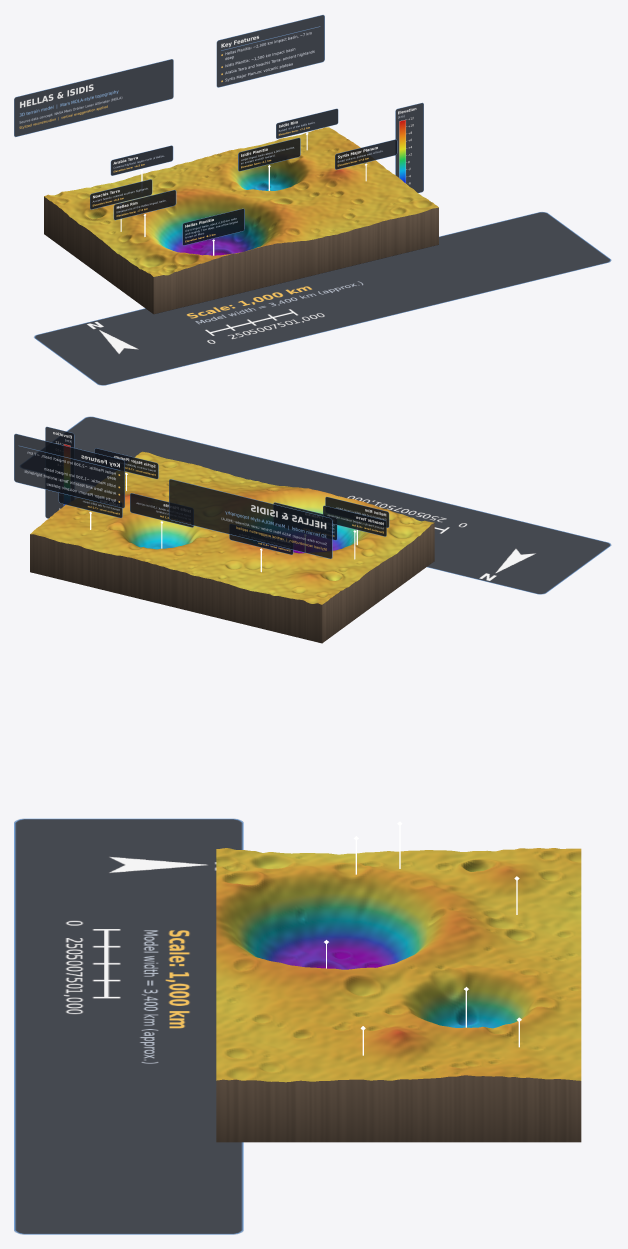
File: 03_Hellas_Isidis.glb
3 renders of one model, top to bottom at view 1: azimuth 30°, elevation 25°; view 2: azimuth 150°, elevation 25°; view 3: azimuth 270°, elevation 25°, orthographic. The views are drawn at different scales.
Visible parts, largest first — view 1: Info_ScaleAndCompass, Terrain_Surface, Terrain_Walls, Info_Title, Info_KeyFeatures, Info_ElevationLegend, Label_Hellas Planitia, Label_Isidis Planitia, Label_Arabia Terra, Label_Hellas Rim, Label_Noachis Terra, Label_Syrtis Major Planum (+1 smaller); view 2: Terrain_Surface, Info_ScaleAndCompass, Terrain_Walls, Info_Title, Info_KeyFeatures, Label_Isidis Planitia, Info_ElevationLegend, Label_Noachis Terra, Label_Hellas Planitia, Label_Syrtis Major Planum, Label_Isidis Rim, Label_Arabia Terra (+1 smaller); view 3: Info_ScaleAndCompass, Terrain_Surface, Terrain_Walls.
Part boxes in pixels (bbox=[...]): Info_ScaleAndCompass: bbox=[34, 212, 611, 385]; Terrain_Surface: bbox=[44, 127, 438, 276]; Terrain_Walls: bbox=[44, 196, 438, 313]; Info_Title: bbox=[14, 59, 173, 136]; Info_KeyFeatures: bbox=[216, 15, 324, 87]; Info_ElevationLegend: bbox=[395, 102, 423, 193]; Label_Hellas Planitia: bbox=[182, 208, 244, 245]; Label_Isidis Planitia: bbox=[238, 137, 300, 171]; Label_Arabia Terra: bbox=[110, 145, 173, 175]; Label_Hellas Rim: bbox=[113, 190, 176, 220]; Label_Noachis Terra: bbox=[90, 179, 152, 209]; Label_Syrtis Major Planum: bbox=[335, 139, 397, 169]; Terrain_Surface: bbox=[30, 451, 434, 604]; Info_ScaleAndCompass: bbox=[20, 416, 611, 594]; Terrain_Walls: bbox=[30, 523, 434, 643]; Info_Title: bbox=[169, 479, 332, 558]; Info_KeyFeatures: bbox=[14, 433, 124, 508]; Label_Isidis Planitia: bbox=[130, 493, 193, 527]; Info_ElevationLegend: bbox=[45, 426, 74, 518]; Label_Noachis Terra: bbox=[323, 505, 386, 536]; Label_Hellas Planitia: bbox=[273, 502, 337, 540]; Label_Syrtis Major Planum: bbox=[94, 448, 158, 479]; Label_Isidis Rim: bbox=[58, 488, 122, 517]; Label_Arabia Terra: bbox=[229, 524, 293, 554]; Info_ScaleAndCompass: bbox=[14, 818, 243, 1234]; Terrain_Surface: bbox=[216, 848, 581, 1082]; Terrain_Walls: bbox=[216, 1075, 581, 1142].
Bounding box in the file's own units: 18 × 4.74 × 10.97.
13 materials, 11 textured.
